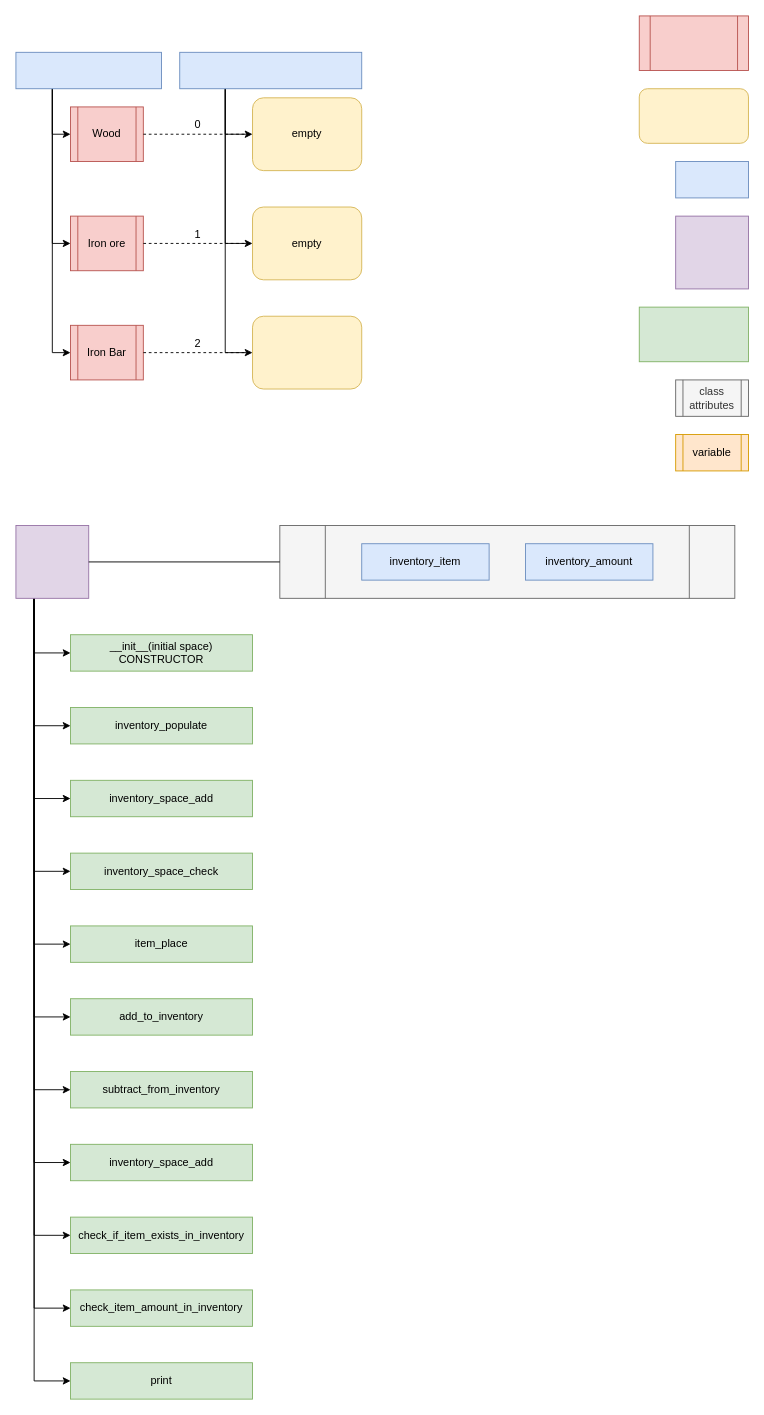
The diagram is 764 pixels wide and 1415 high, and some of its shapes have lost their labels. Each missing label, with the centre of its shape:
class: pixel 711 252
class method: pixel 693 334
dictionary: pixel 693 115
Inventory: pixel 52 561
Iron Ore: 5 Wood: 4: pixel 307 352
items_list: pixel 88 70
items_req_dict_list: pixel 270 70
list: pixel 711 179
list's cell: pixel 693 43
